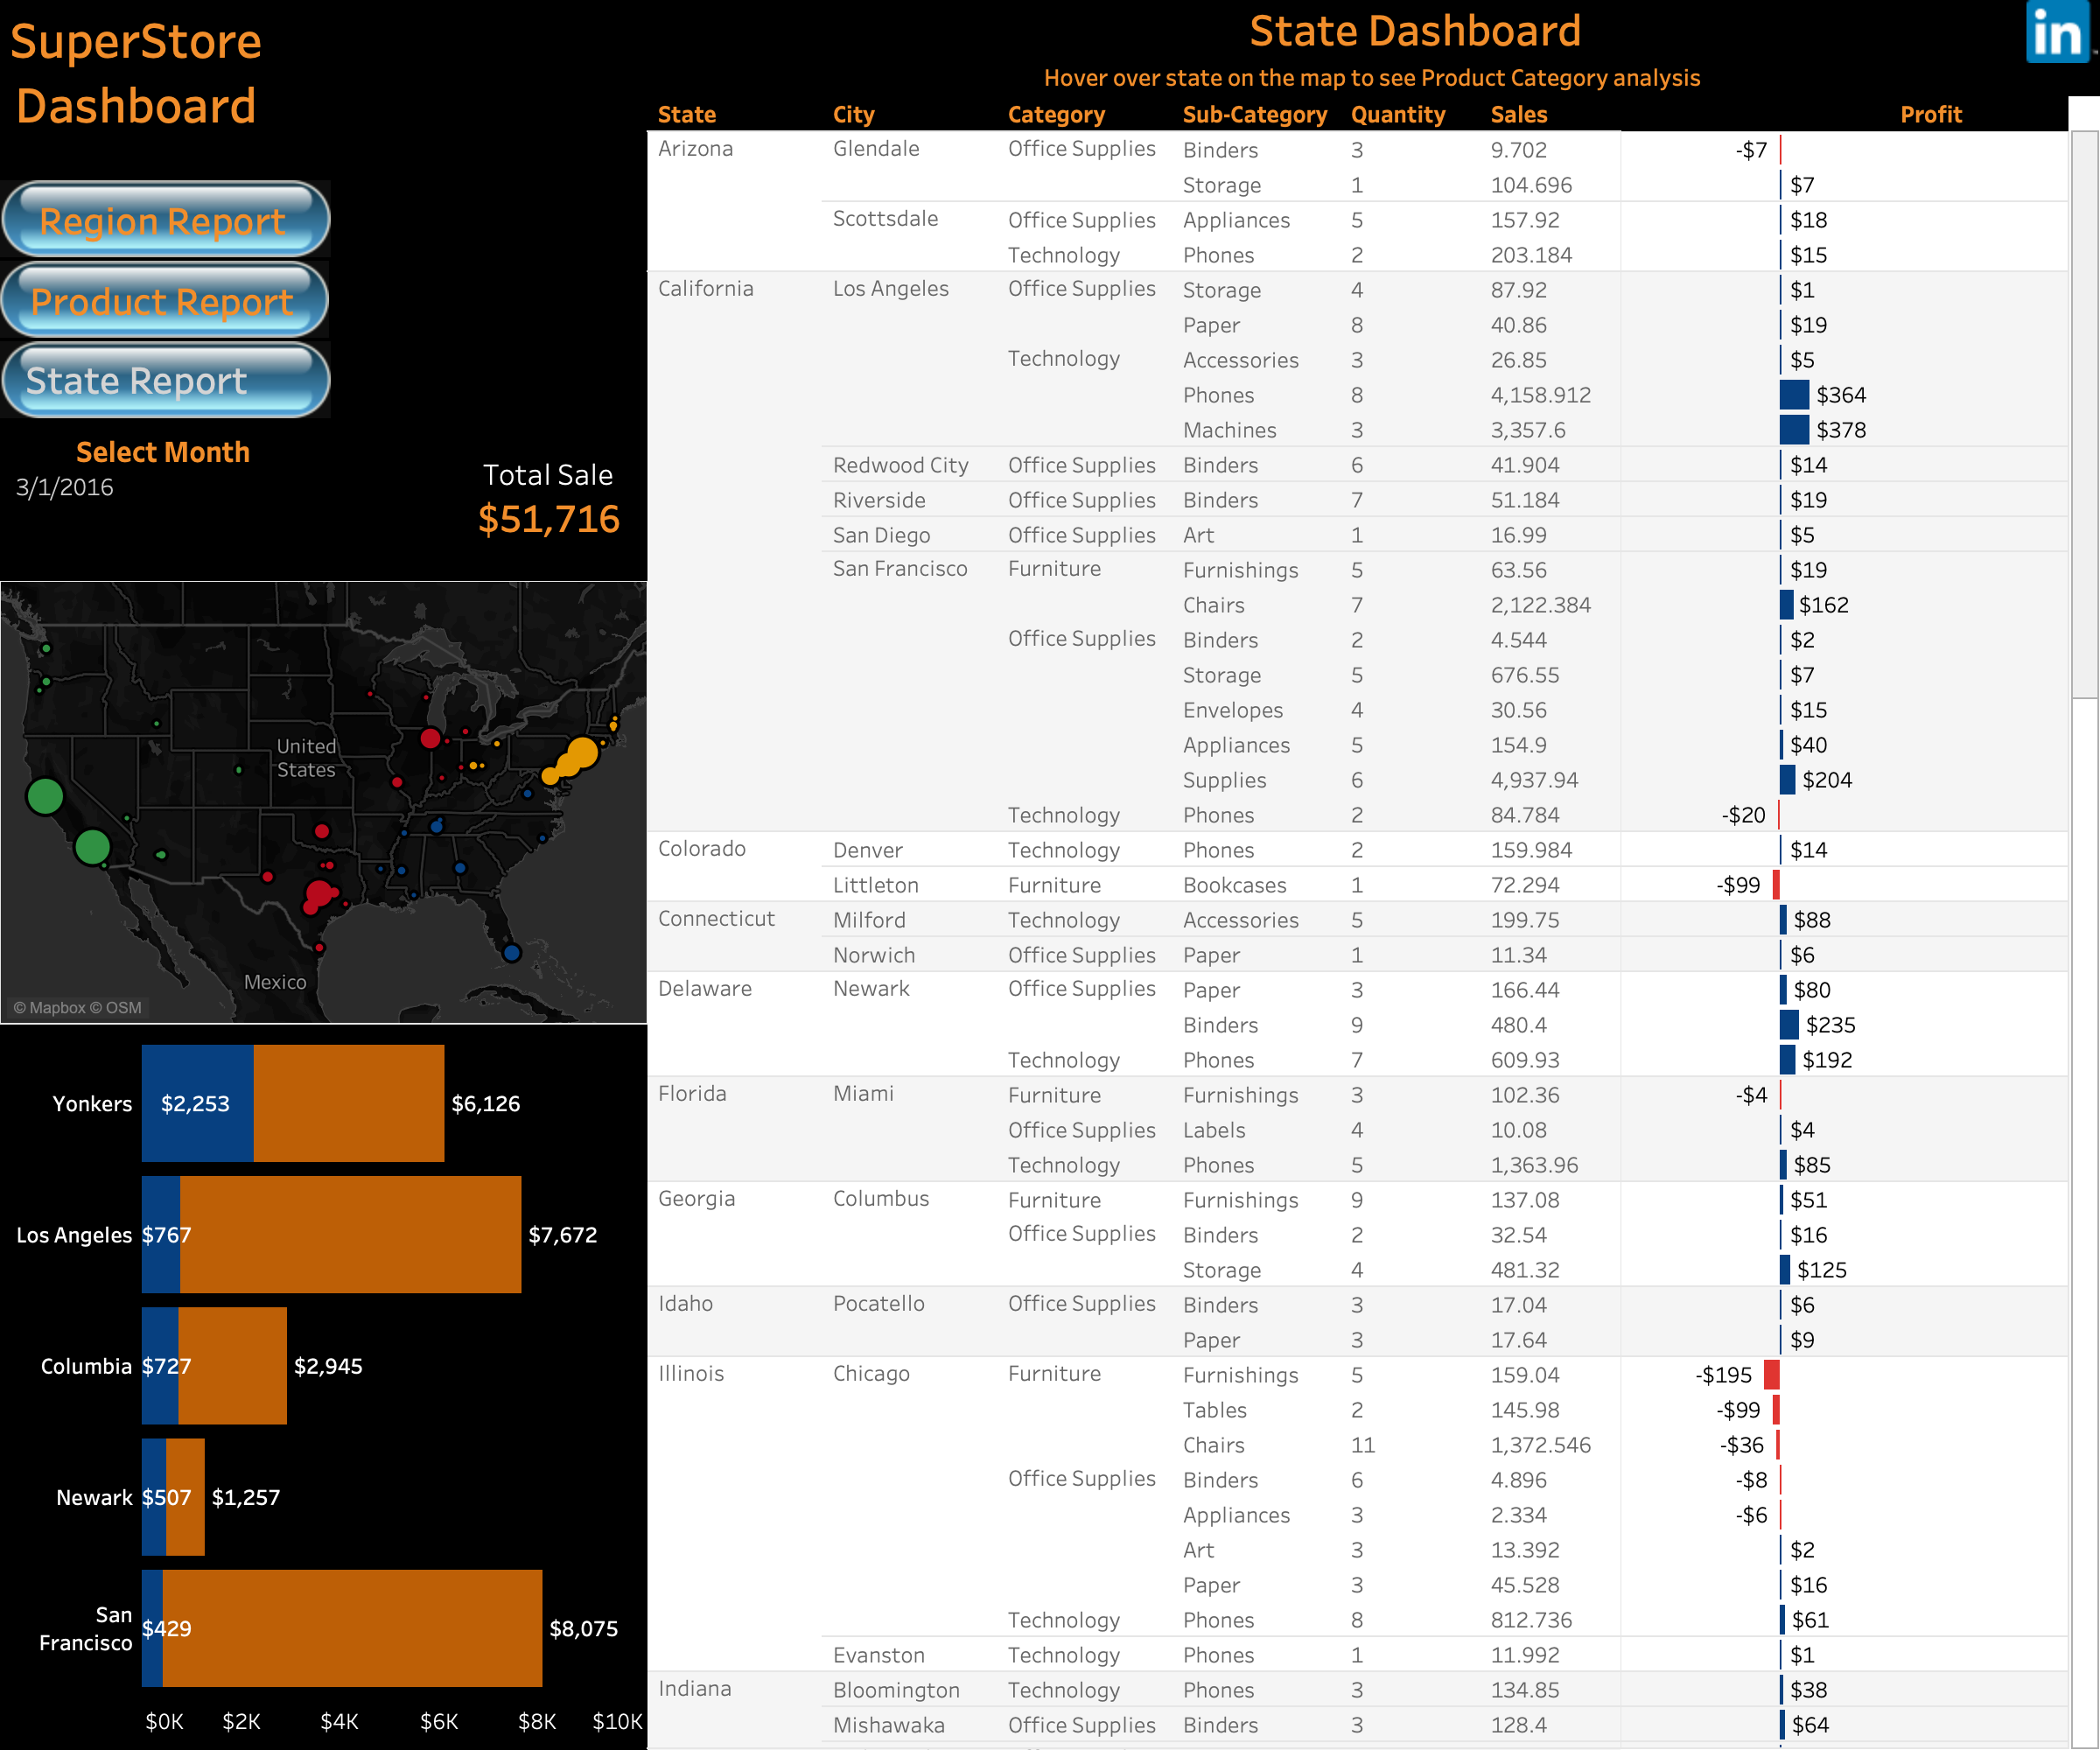

What the dashboard file says about the page in this screenshot:
{"tool":"tableau","page":{"name":"State Dashboard","canvas":[1200,1000],"ordinal":2},"visuals":[{"type":"worksheet","box":[0,0,1200,1000]},{"type":"worksheet","param":"vert","box":[0,0,1200,1000]},{"type":"worksheet","box":[0,0,1200,32]},{"type":"worksheet","param":"Image/Linkedin-Download-PNG.png","box":[1158,0,41,38]},{"type":"worksheet","box":[3,4,150,74]},{"type":"worksheet","param":"horz","box":[0,32,1200,968]},{"type":"worksheet","box":[0,32,1200,968]},{"type":"worksheet","param":"horz","box":[0,32,371,968]},{"type":"worksheet","box":[369,32,831,23]},{"type":"worksheet","box":[1019,50,170,30]},{"type":"worksheet","title":"City sales&profit","mark":"Bar","rows":["State","City","Category","Sub-Category","Quantity","Sales"],"cols":["Profit"],"box":[370,55,830,945]},{"type":"worksheet","box":[5,108,176,35]},{"type":"worksheet","box":[688,172,188,97]},{"type":"worksheet","box":[12,202,166,30]},{"type":"worksheet","param":"[Parameters].[Parameter 1]","box":[7,246,173,61]},{"type":"worksheet","title":"Total Sales","mark":"Automatic","box":[264,260,135,69]},{"type":"worksheet","title":"Region Analysis","mark":"Automatic","box":[0,332,371,254]}]}

Visuals, with their boxes in screenshot pixels (x1, y1, x2, y2), scaled from the page's 1200x1000 canvas onto the 2100x1750 screenshot:
worksheet: x1=0, y1=0, x2=2099, y2=1749
worksheet: x1=0, y1=0, x2=2099, y2=1749
worksheet: x1=0, y1=0, x2=2099, y2=56
worksheet: x1=2026, y1=0, x2=2098, y2=66
worksheet: x1=5, y1=7, x2=268, y2=136
worksheet: x1=0, y1=56, x2=2099, y2=1749
worksheet: x1=0, y1=56, x2=2099, y2=1749
worksheet: x1=0, y1=56, x2=649, y2=1749
worksheet: x1=646, y1=56, x2=2099, y2=96
worksheet: x1=1783, y1=87, x2=2081, y2=140
"City sales&profit" worksheet (Bar marks): x1=647, y1=96, x2=2099, y2=1749
worksheet: x1=9, y1=189, x2=317, y2=250
worksheet: x1=1204, y1=301, x2=1533, y2=471
worksheet: x1=21, y1=353, x2=311, y2=406
worksheet: x1=12, y1=430, x2=315, y2=537
"Total Sales" worksheet: x1=462, y1=455, x2=698, y2=576
"Region Analysis" worksheet: x1=0, y1=581, x2=649, y2=1025
